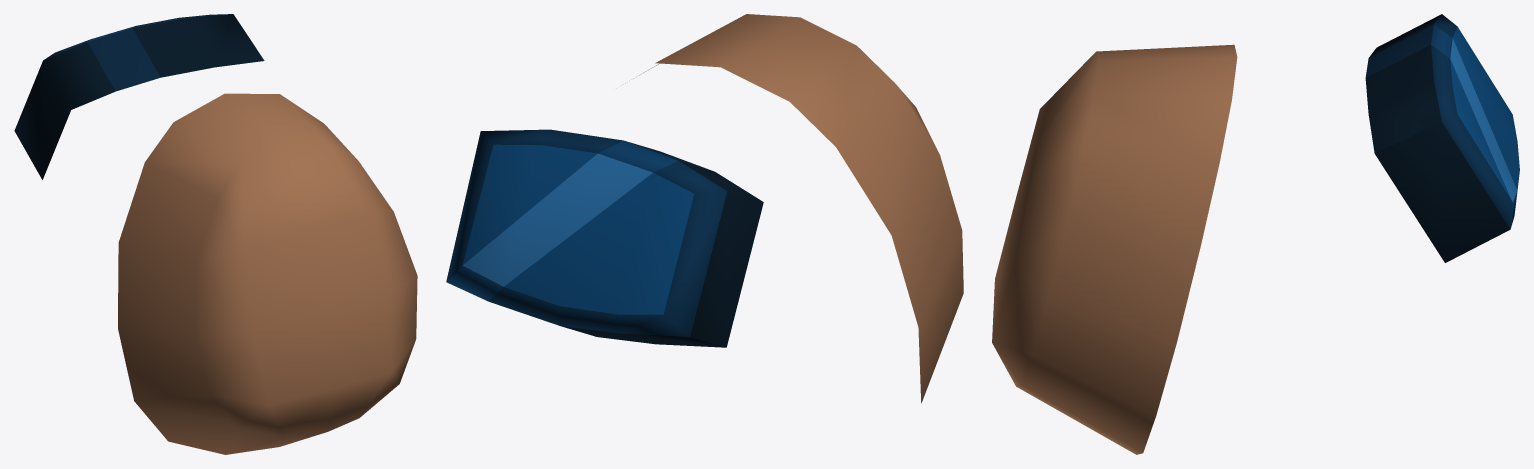
Rendered from hat_amongEgg_04.glb.
3 views of the same model, side by side, from view 1: azimuth 30°, elevation 25°; view 2: azimuth 150°, elevation 25°; view 3: azimuth 270°, elevation 25° (orthographic). The views are drawn at different scales.
Parts seen in each view (by area): view 1: hat_amongEgg_04; view 2: hat_amongEgg_04; view 3: hat_amongEgg_04.
Part boxes in pixels (x1,y1,x2,y2): hat_amongEgg_04: (14, 14, 417, 454); hat_amongEgg_04: (446, 14, 963, 403); hat_amongEgg_04: (992, 14, 1519, 454).
Bounding box in the file's own units: 0.3682 × 0.4331 × 0.5396.
